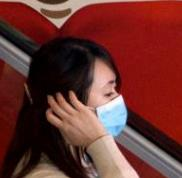OK: (91, 75, 129, 139)
